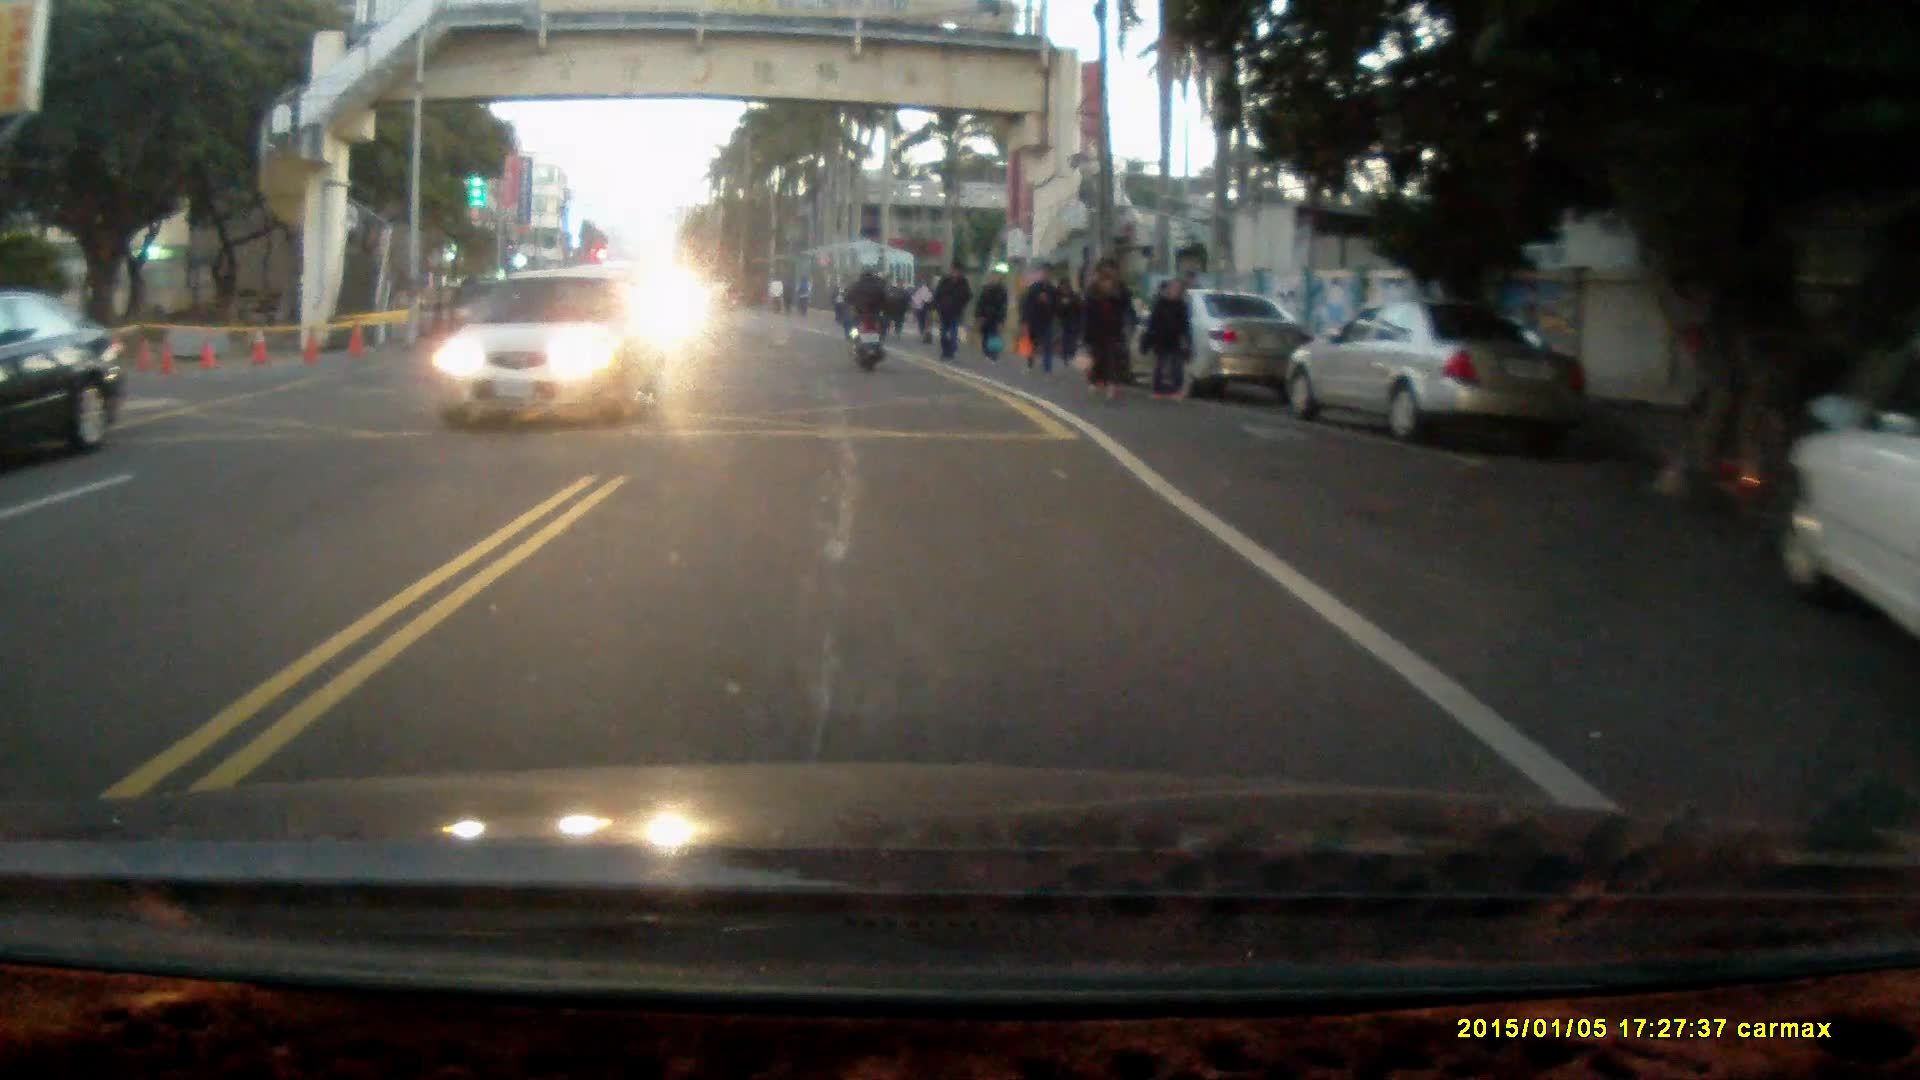pedestrian: (1144, 276, 1196, 404), (1083, 269, 1128, 402), (1018, 258, 1059, 375), (930, 259, 972, 365), (971, 270, 1010, 371)
rider: (841, 263, 895, 373)
vehicle: (1289, 299, 1595, 445), (1780, 355, 1920, 668), (426, 269, 669, 434), (1102, 293, 1320, 400), (1, 296, 128, 465)
